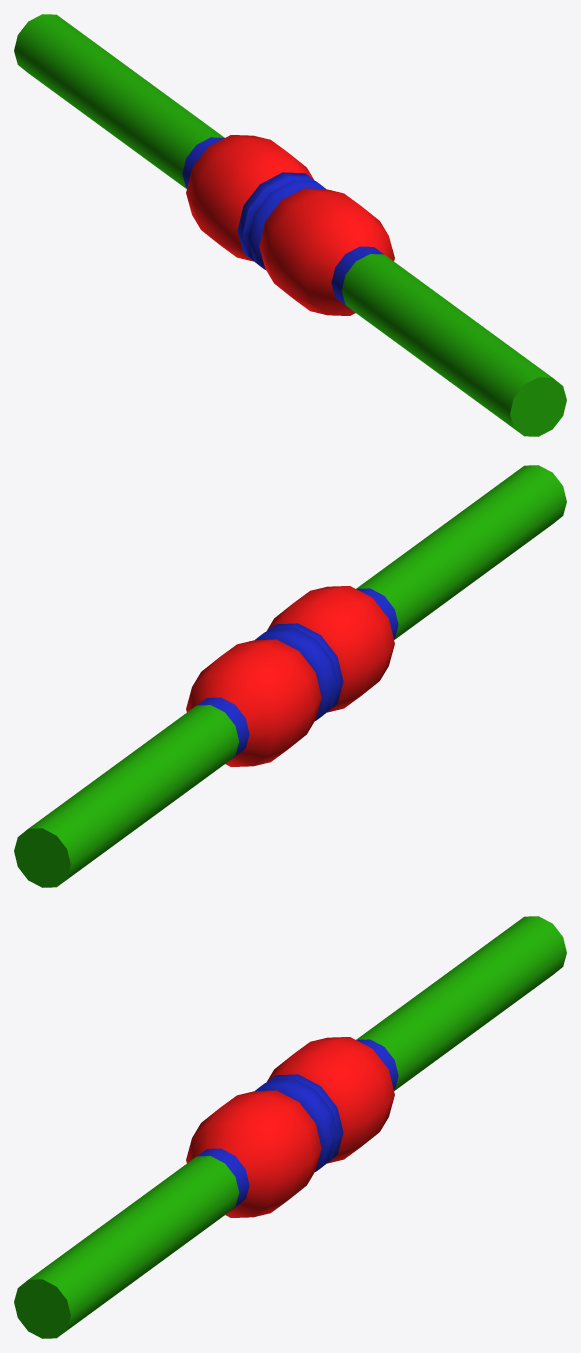
File: doorBolt.fbx
The picture shows the model from 3 angles, top to bottom: view 1: azimuth 30°, elevation 25°; view 2: azimuth 150°, elevation 25°; view 3: azimuth 330°, elevation 25°; orthographic projection.
Parts seen in each view (by area): view 1: doorBolt; view 2: doorBolt; view 3: doorBolt.
Boxes of the visible parts, x1,y1,x2,y2 form: doorBolt: (14,14,566,436); doorBolt: (14,465,566,887); doorBolt: (14,916,566,1338).
Bounding box in the file's own units: 11.03 × 11.03 × 92.68.
